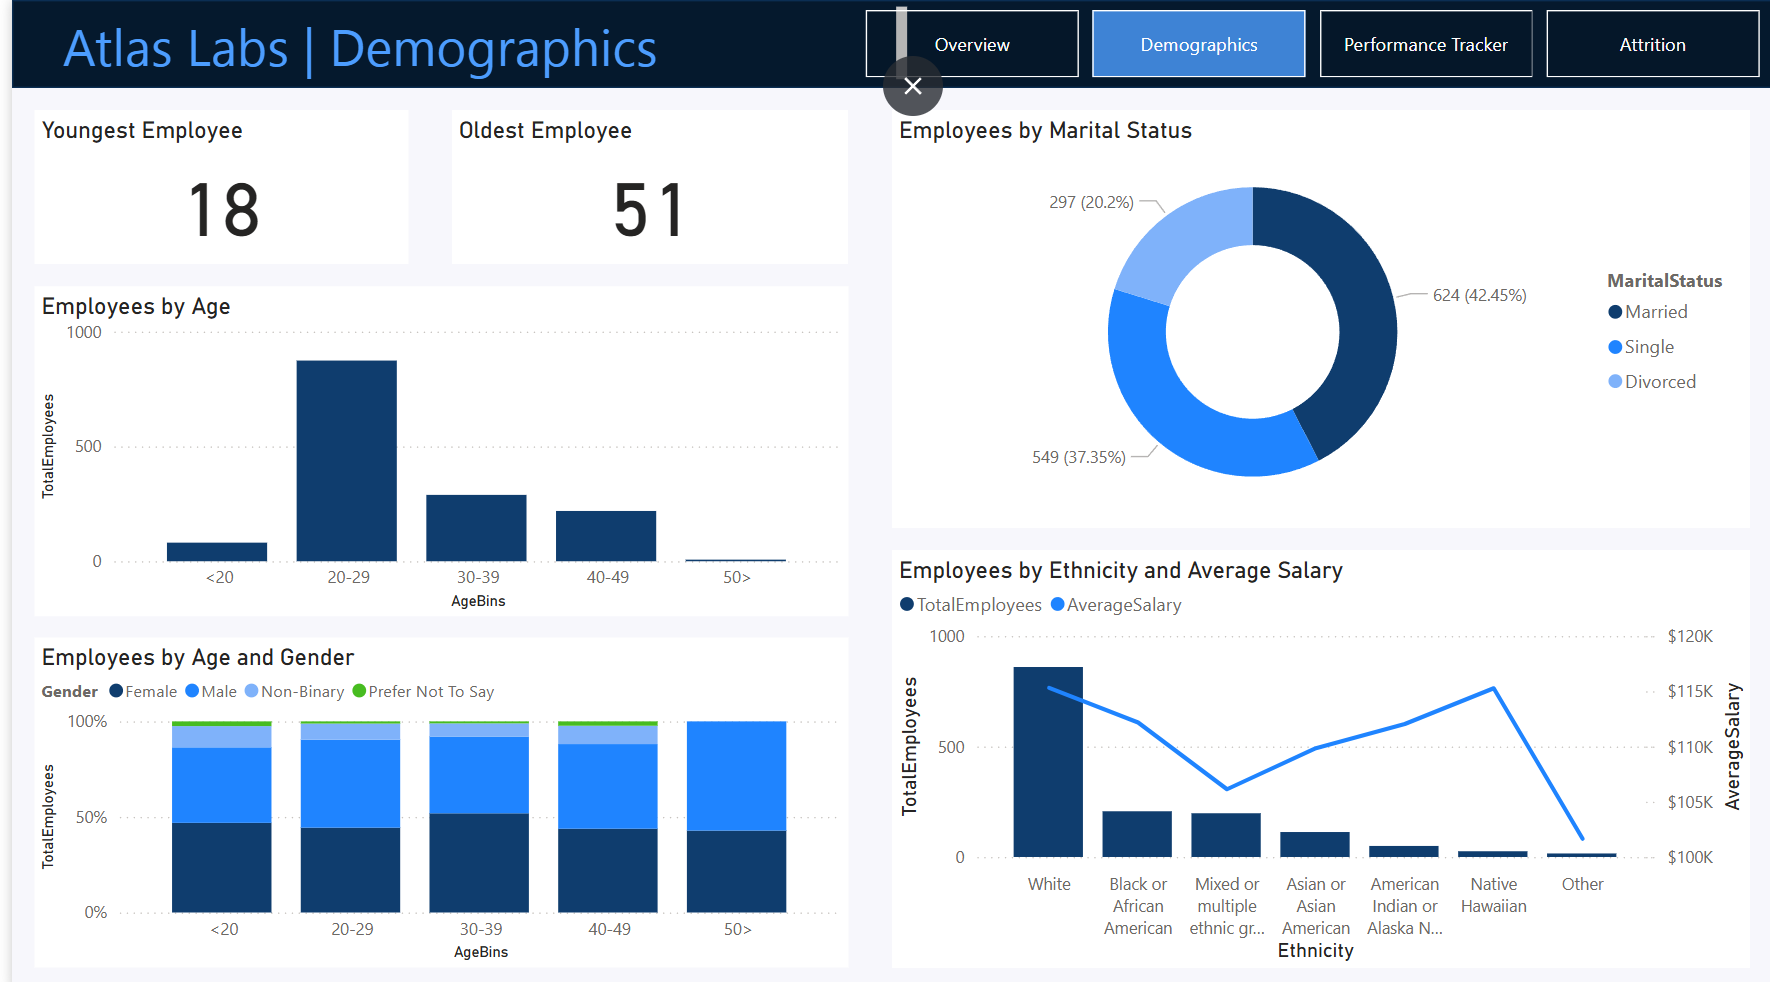

The page's visual inventory and layout, read from the dashboard file:
{"tool":"powerbi","page":{"name":"Demographics","canvas":[1280,720],"ordinal":1},"visuals":[{"type":"card","title":"Youngest Employee","fields":{"Values":["Min(DimEmployee.Age)"]},"box":[16,80,272,112],"z":0},{"type":"card","title":"Oldest Employee","fields":{"Values":["Max(DimEmployee.Age)"]},"box":[320,80,288,112],"z":1000},{"type":"columnChart","title":"Employees by Age","fields":{"Category":["DimEmployee.AgeBins"],"Y":["_Measures.TotalEmployees"]},"box":[16,208,592,240],"z":2000},{"type":"hundredPercentStackedColumnChart","title":"Employees by Age and Gender","fields":{"Category":["DimEmployee.AgeBins"],"Series":["DimEmployee.Gender"],"Y":["_Measures.TotalEmployees"]},"box":[16,464,592,240],"z":3000},{"type":"donutChart","title":"Employees by Marital Status","fields":{"Category":["DimEmployee.MaritalStatus"],"Y":["_Measures.TotalEmployees"]},"box":[640,80,624,304],"z":4000},{"type":"lineStackedColumnComboChart","title":"Employees by Ethnicity and Average Salary","fields":{"Category":["DimEmployee.Ethnicity"],"Y":["_Measures.TotalEmployees"],"Y2":["_Measures.AverageSalary"]},"box":[640,400,624,304],"z":5000},{"type":"shape","box":[0,0,1280,64],"z":6000},{"type":"textbox","box":[32,0,624,64],"z":7000},{"type":"pageNavigator","box":[621.3,7.2,652.7,49.5],"z":8000}]}

Visuals, with their boxes in screenshot pixels (x1, y1, x2, y2), scaled from the page's 1280x720 canvas onto the 1770x982 screenshot:
"Youngest Employee" card: (left=22, top=109, right=398, bottom=262)
"Oldest Employee" card: (left=442, top=109, right=841, bottom=262)
"Employees by Age" columnChart: (left=22, top=284, right=841, bottom=611)
"Employees by Age and Gender" hundredPercentStackedColumnChart: (left=22, top=633, right=841, bottom=960)
"Employees by Marital Status" donutChart: (left=885, top=109, right=1748, bottom=524)
"Employees by Ethnicity and Average Salary" lineStackedColumnComboChart: (left=885, top=546, right=1748, bottom=960)
shape: (left=0, top=0, right=1769, bottom=87)
textbox: (left=44, top=0, right=907, bottom=87)
pageNavigator: (left=859, top=10, right=1762, bottom=77)
